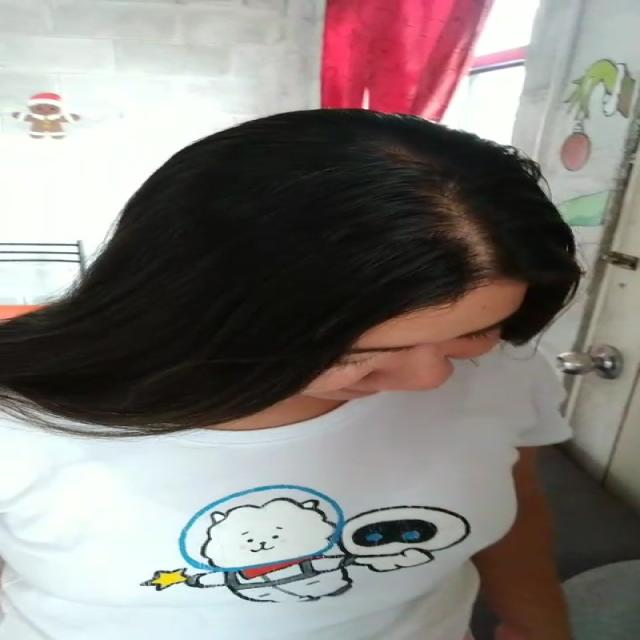9_cabeza_baja: (96, 107, 578, 401)
